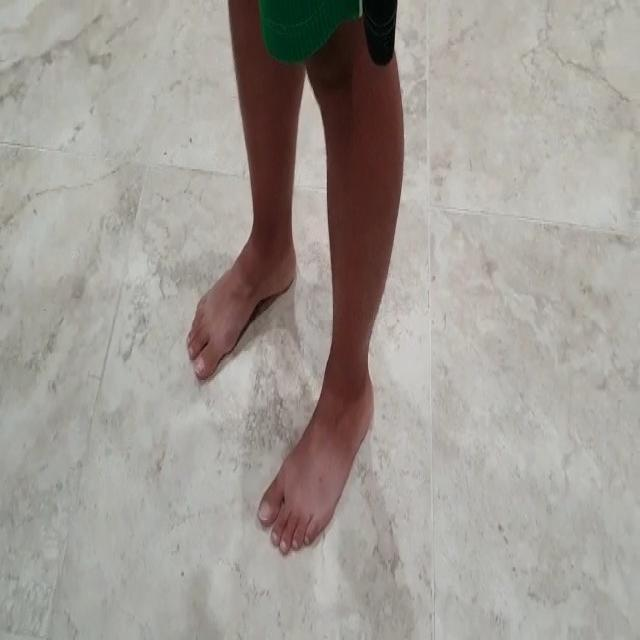no-boots: (257, 331, 382, 566), (182, 219, 304, 389)
